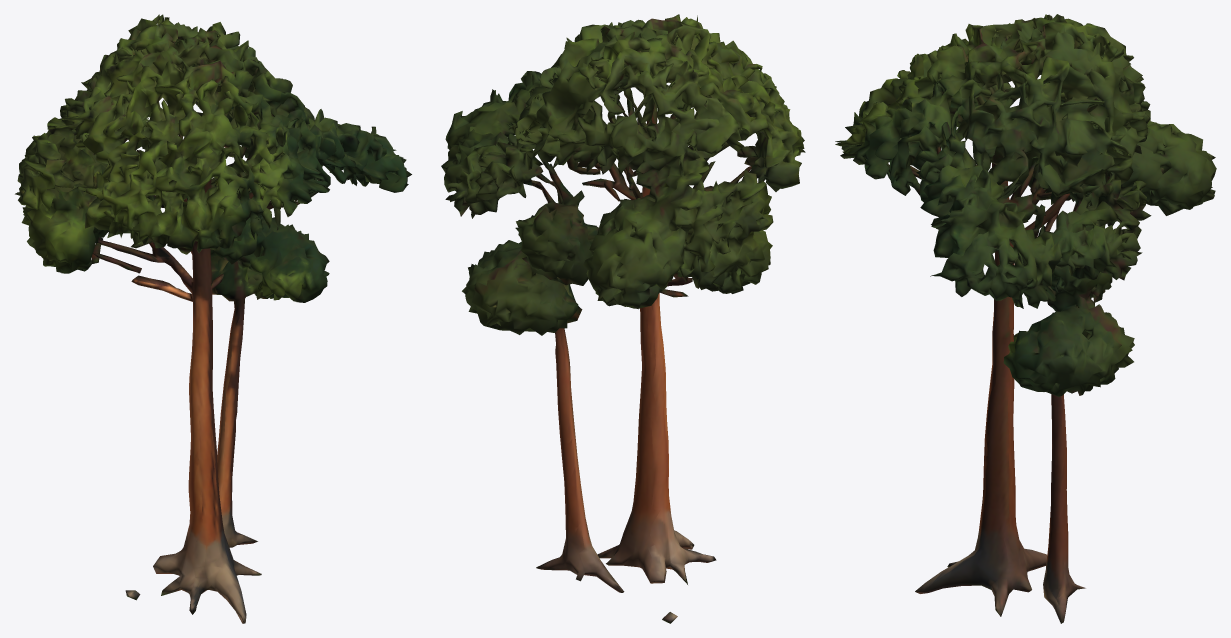
File: AI_ColumnarRedwoodTree.fbx
3 views of the same model, side by side, from view 1: azimuth 30°, elevation 25°; view 2: azimuth 150°, elevation 25°; view 3: azimuth 270°, elevation 25° (orthographic). The views are drawn at different scales.
Parts seen in each view (by area): view 1: Mesh_0; view 2: Mesh_0; view 3: Mesh_0.
Part boxes in pixels (x1=…): Mesh_0: x1=15, y1=14, x2=411, y2=623; Mesh_0: x1=441, y1=14, x2=805, y2=623; Mesh_0: x1=835, y1=14, x2=1216, y2=623.
Bounding box in the file's own units: 130 × 205 × 122.
1 material, 1 textured.
